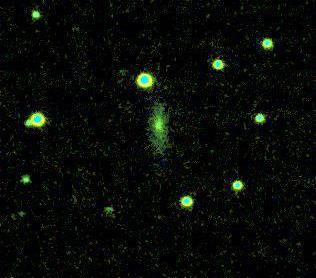star: (144, 121, 174, 151)
